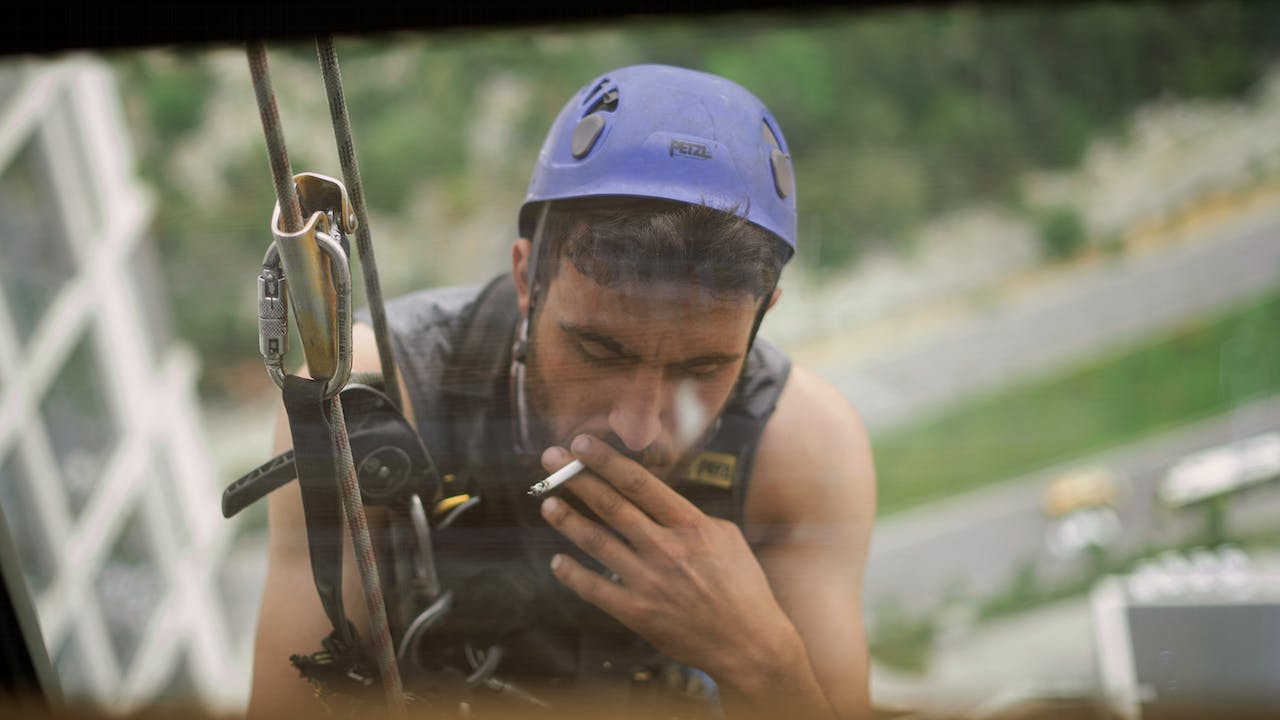Cigarette: (525, 458, 589, 498)
